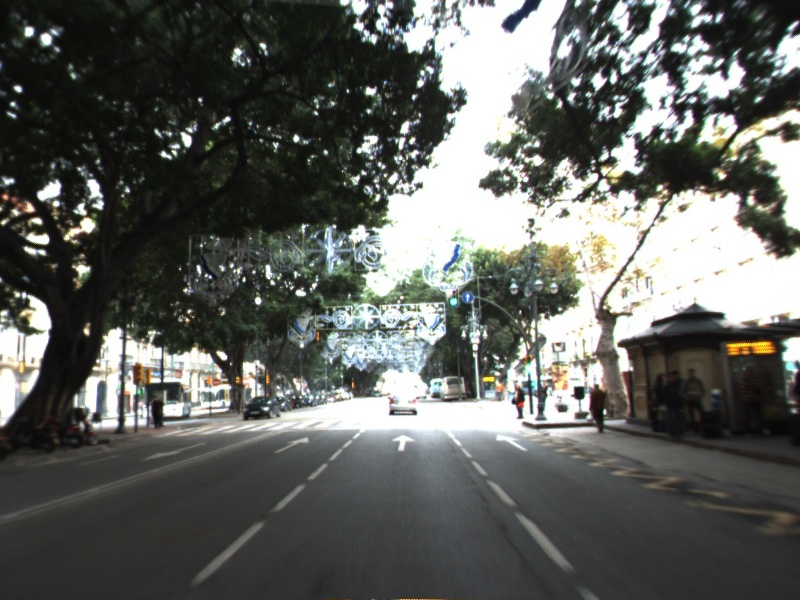STRAIGHT: (493, 432, 531, 453), (272, 435, 311, 455), (389, 433, 417, 453)
